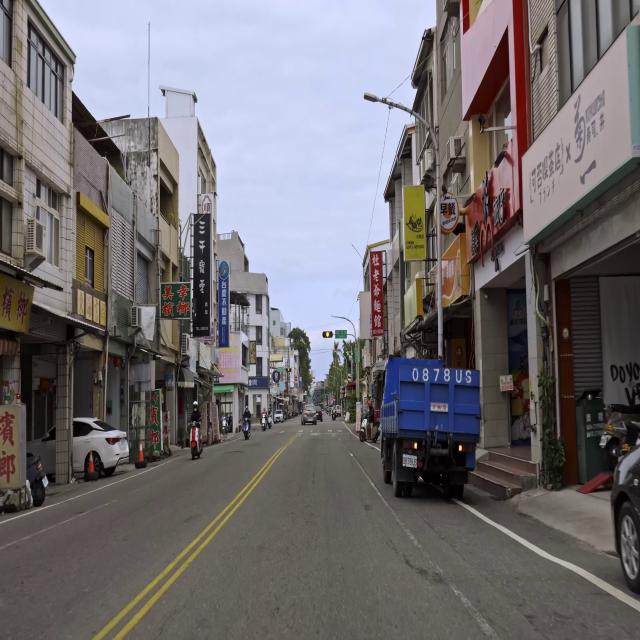yellow light: (322, 331, 333, 338), (285, 367, 292, 373)
